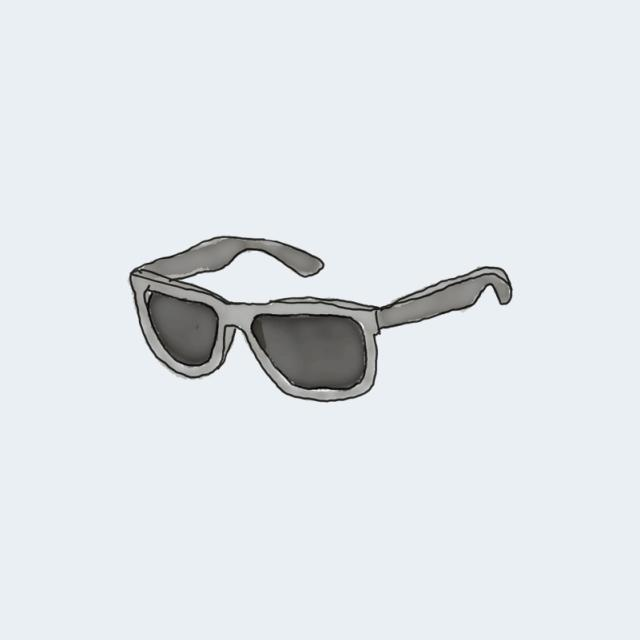sunglasses: (125, 263, 408, 405)
